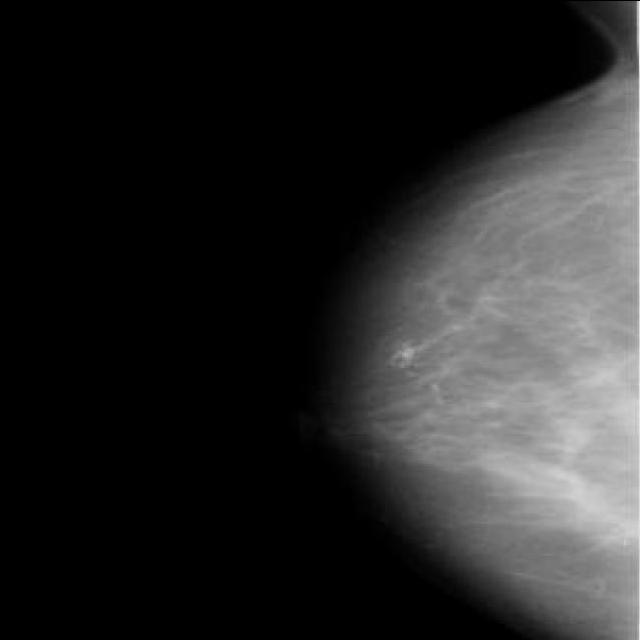tumor: (447, 302, 616, 548)
